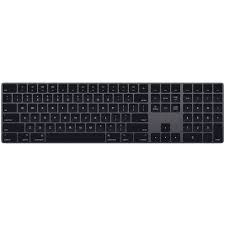keyboard: (0, 75, 223, 150)
